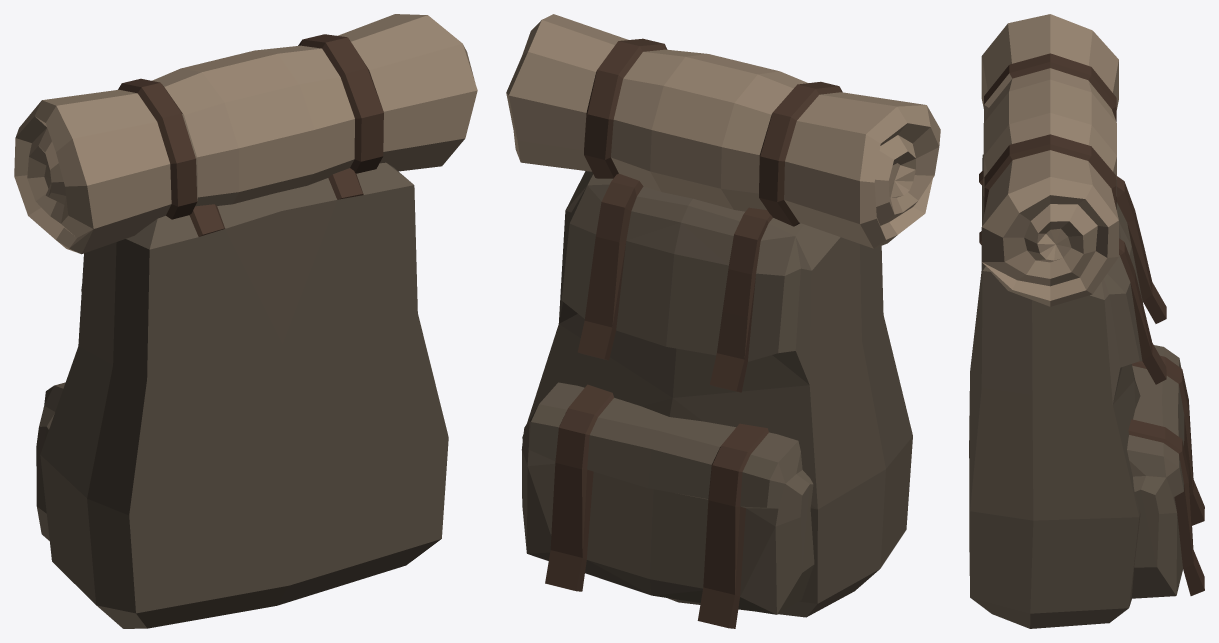
File: Chr_BackAttachment_01_Static.fbx
3 renders of one model, left to right at view 1: azimuth 30°, elevation 25°; view 2: azimuth 150°, elevation 25°; view 3: azimuth 270°, elevation 25°, orthographic. The views are drawn at different scales.
Parts seen in each view (by area): view 1: Chr_BackAttachment_01_Static; view 2: Chr_BackAttachment_01_Static; view 3: Chr_BackAttachment_01_Static.
Part boxes in pixels (x1,y1,x2,y2): Chr_BackAttachment_01_Static: (14, 14, 477, 628); Chr_BackAttachment_01_Static: (506, 14, 940, 628); Chr_BackAttachment_01_Static: (969, 14, 1204, 628).
Bounding box in the file's own units: 0.4303 × 0.5368 × 0.2379.
